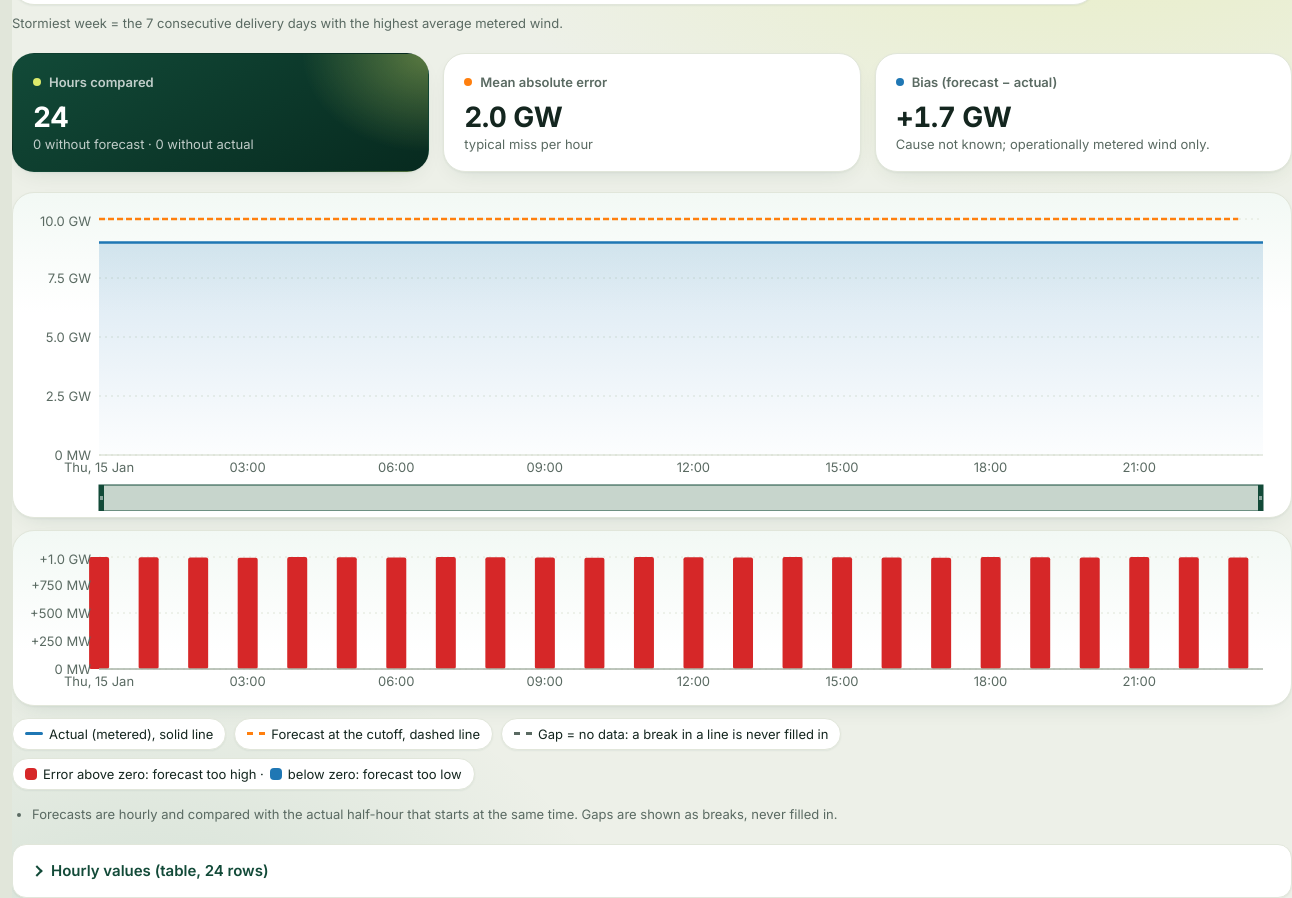
Test: Explorer renders the selected range › lists hourly values in an accessible table when opened
This screenshot has width=1292, height=898.
(page scrolled)
Click the heading "Hourly values (table, 24 rows)". click: [160, 871]
box: [51,861,268,880]
(page scrolled)
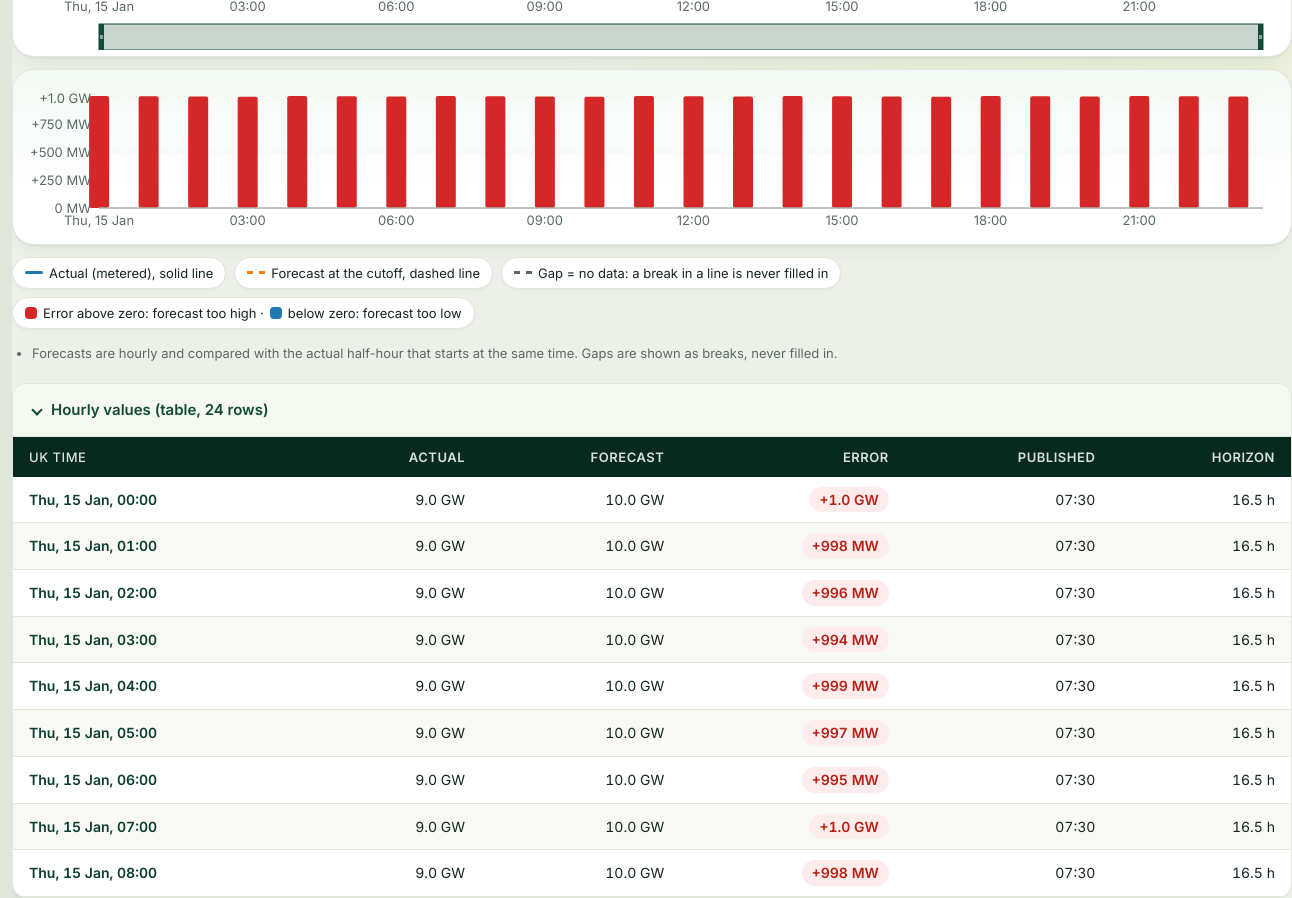
expect the row "Thu, 15 Jan, 00:00 9.0 GW 10.0 GW +1.0 GW 07:30 16.5 h" is shown: met, box [13,477,1291,523]
